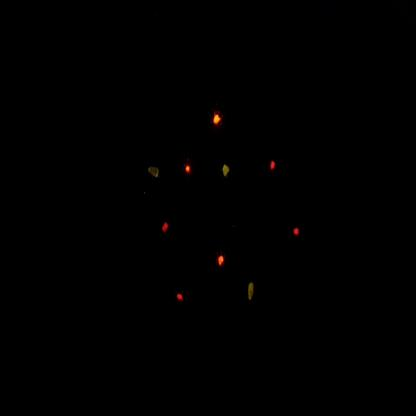PET: (161, 277, 199, 320), (148, 208, 185, 252), (259, 142, 290, 191), (283, 209, 311, 257)
PP: (140, 150, 171, 201), (240, 266, 264, 316), (214, 153, 239, 193)
PVC: (178, 151, 200, 191), (207, 102, 229, 139), (212, 247, 235, 279)
